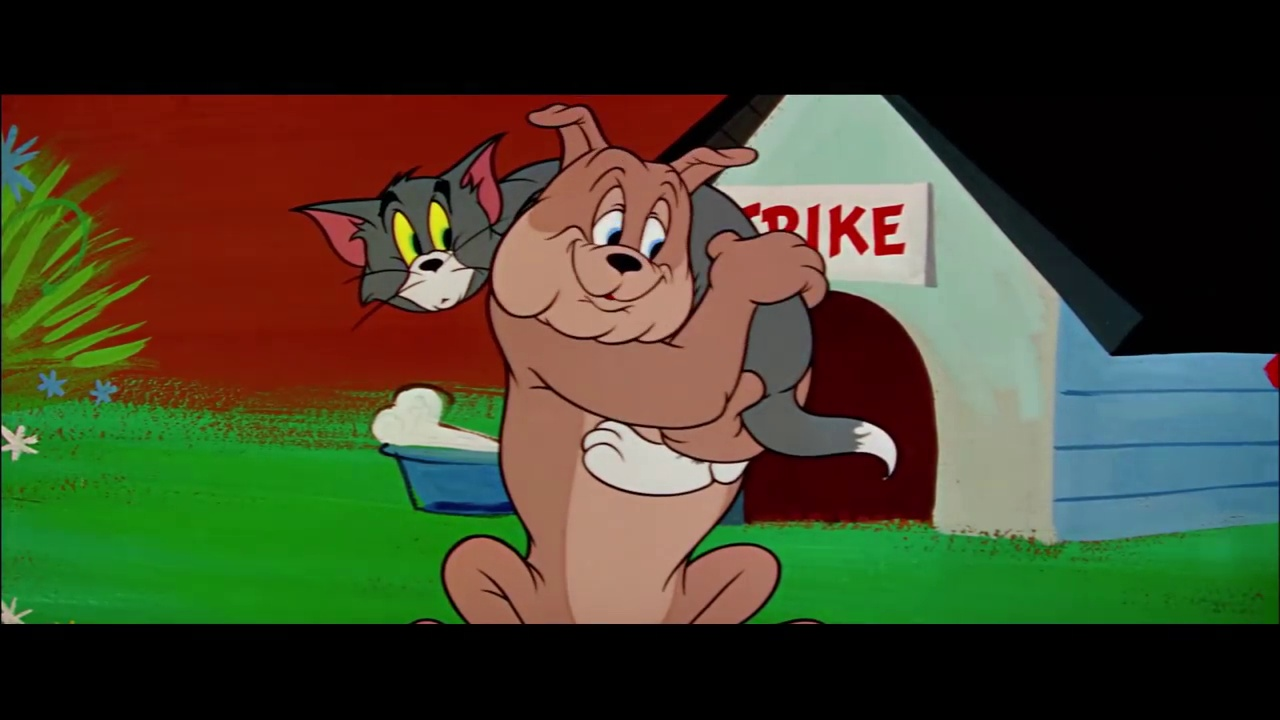spike: (491, 101, 765, 343)
tom: (291, 131, 506, 321)
